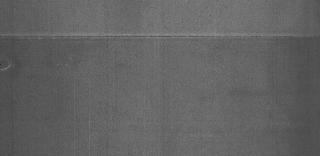welding line: (1, 30, 319, 42)
